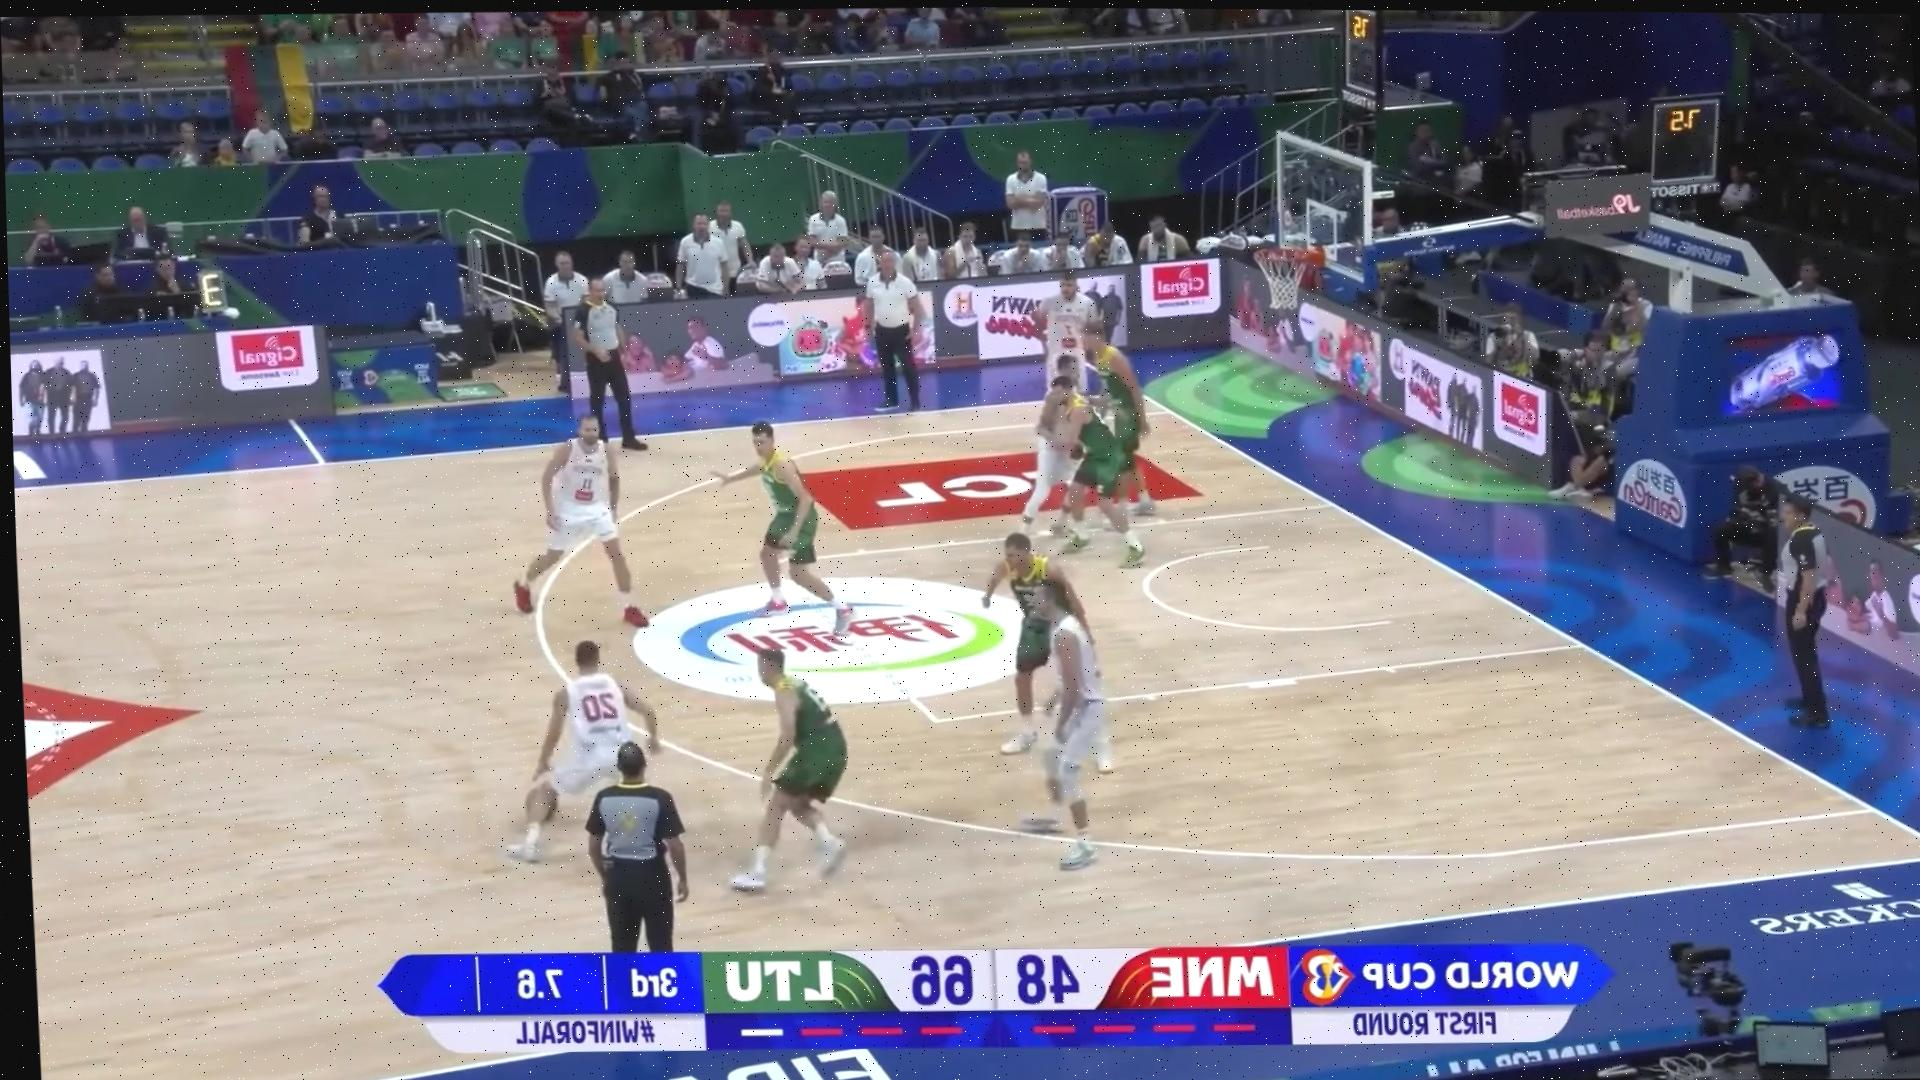no_foul: (488, 607, 890, 865)
